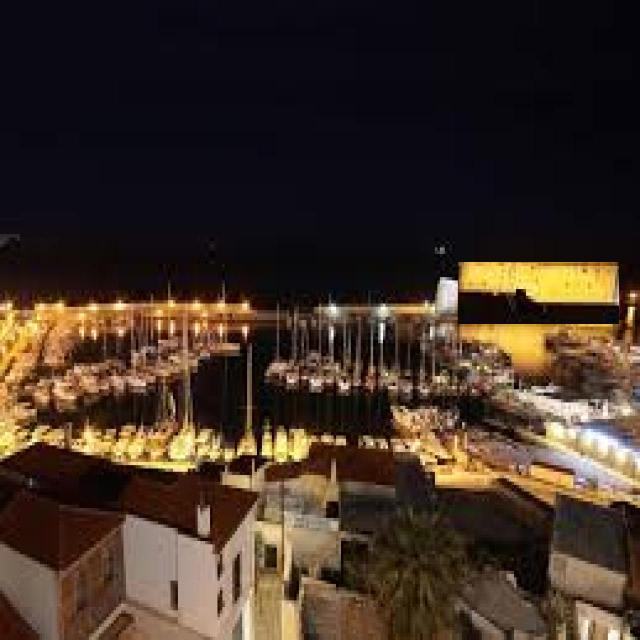Kules: (459, 263, 620, 325)
